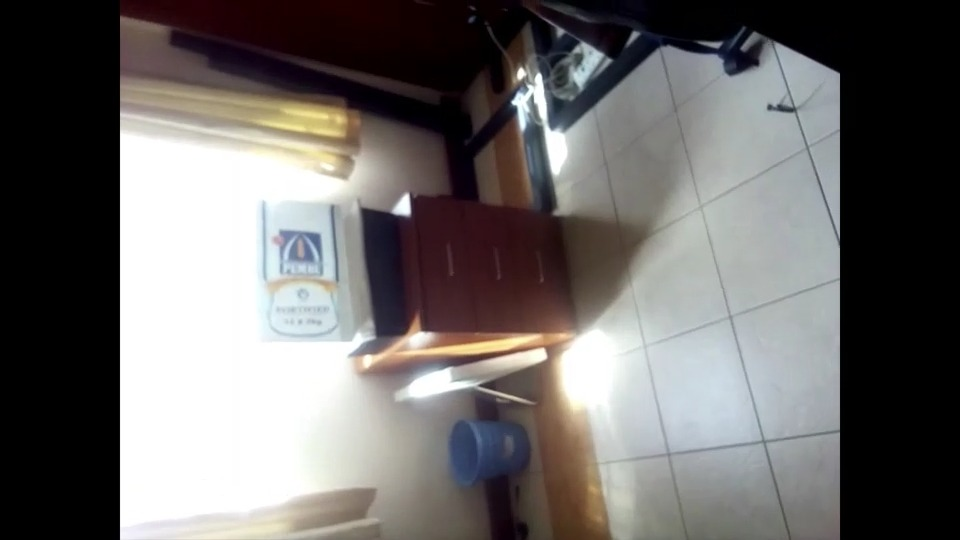wheat_flour_blue_label: (262, 184, 355, 346)
